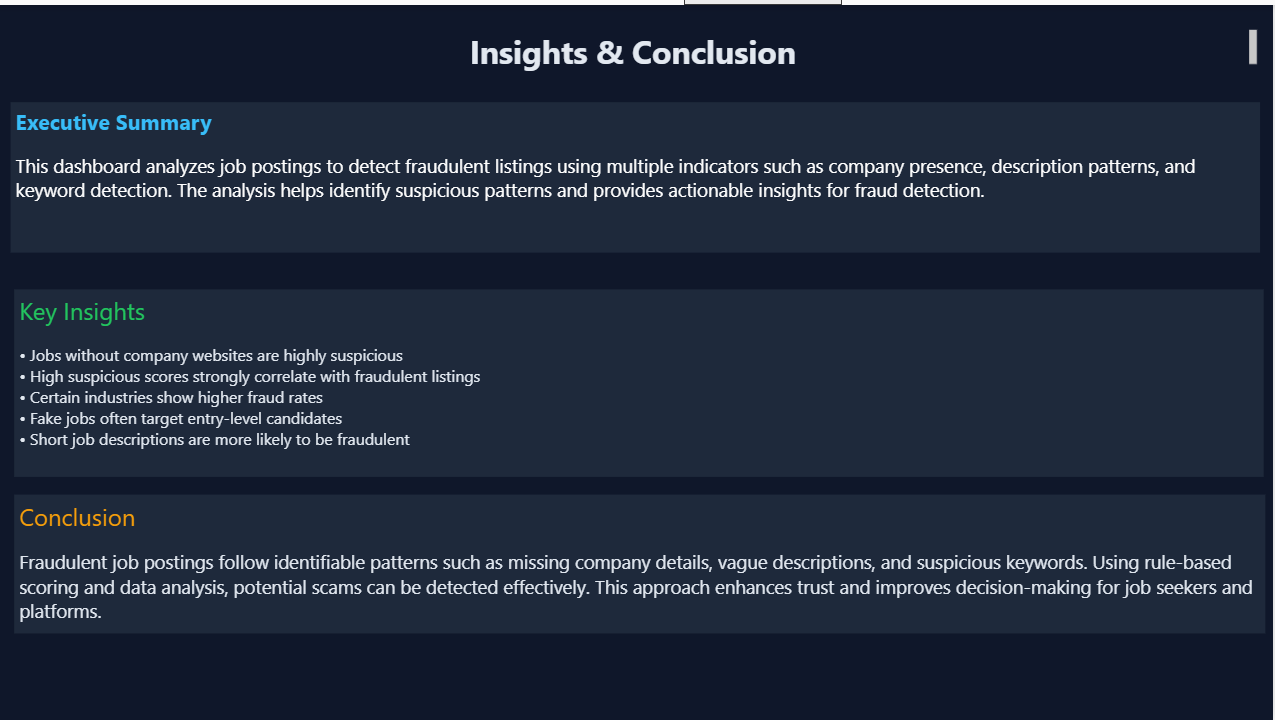

This screenshot's page, from the dashboard's own definition file:
{"tool":"powerbi","page":{"name":"Insights & Conclusion","canvas":[1280,720],"ordinal":2},"visuals":[{"type":"textbox","box":[14.5,20.7,1255,55.8],"z":0},{"type":"textbox","box":[12.4,97.2,1255,150.9],"z":1},{"type":"textbox","box":[16.5,285.3,1255,188.1],"z":2},{"type":"textbox","box":[16.3,491.8,1256.5,139.2],"z":3}]}

Visuals, with their boxes in screenshot pixels (x1, y1, x2, y2), scaled from the page's 1280x720 canvas onto the 1275x720 screenshot:
textbox: <box>14,21,1265,76</box>
textbox: <box>12,97,1262,248</box>
textbox: <box>16,285,1267,473</box>
textbox: <box>16,492,1268,631</box>
